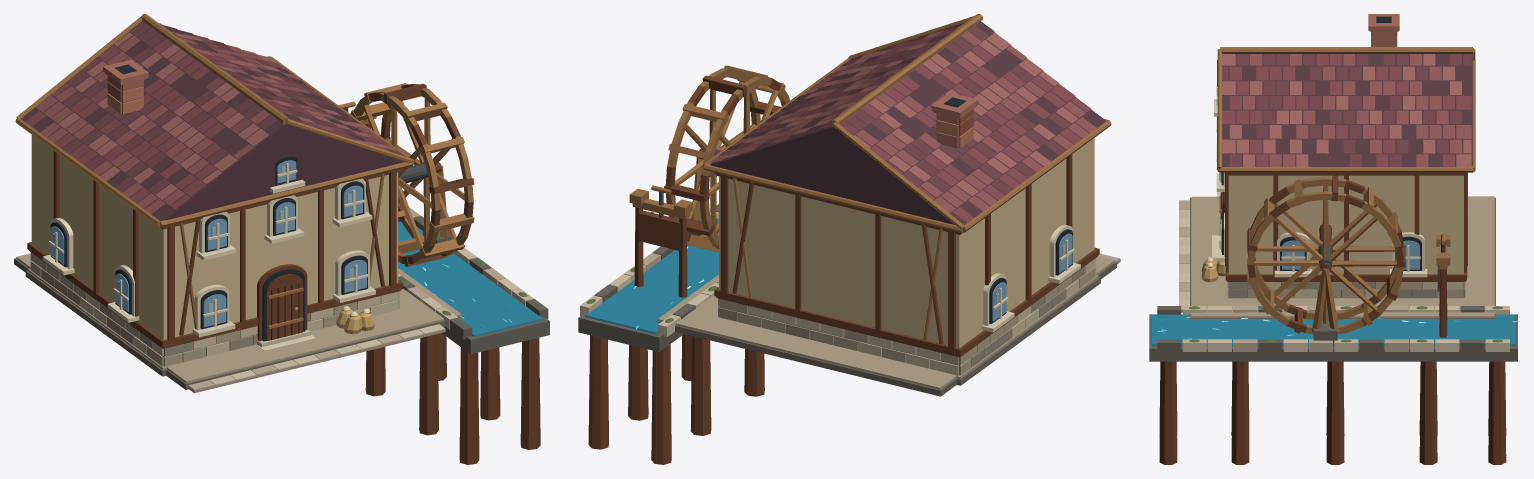
The model's file is watermill-nivel-3.glb.
The picture shows the model from 3 angles, left to right: view 1: azimuth 30°, elevation 25°; view 2: azimuth 150°, elevation 25°; view 3: azimuth 270°, elevation 25°; orthographic projection. The views are drawn at different scales.
Parts seen in each view (by area): view 1: Moinho 03 #d3bb92, Moinho 03 #70432c, Moinho 03 #593b44, Moinho 03 #b4a38a, Aros e pás 1 #9f7145.002, Moinho 03 #9f7145, Moinho 03 #824a50, Moinho 03 #8f5655, Moinho 03 #e6d7ba, Moinho 03 #70444a, Moinho 03 #9e645f, Moinho 03 #256477 (+14 smaller); view 2: Moinho 03 #d3bb92, Moinho 03 #70432c, Moinho 03 #593b44, Moinho 03 #b4a38a, Moinho 03 #9f7145, Moinho 03 #8f5655, Moinho 03 #824a50, Moinho 03 #70444a, Moinho 03 #9e645f, Aros e pás 1 #9f7145.002, Moinho 03 #256477, Moinho 03 #746c62 (+9 smaller); view 3: Moinho 03 #70432c, Moinho 03 #d3bb92, Moinho 03 #593b44, Aros e pás 1 #9f7145.002, Moinho 03 #b4a38a, Moinho 03 #256477, Moinho 03 #70444a, Moinho 03 #6a665e, Moinho 03 #9f7145, Moinho 03 #8f5655, Moinho 03 #9e645f, Moinho 03 #824a50 (+12 smaller).
Boxes of the visible parts, x1,y1,x2,y2 form: Moinho 03 #d3bb92: (31, 135, 398, 339); Moinho 03 #70432c: (27, 123, 540, 464); Moinho 03 #593b44: (21, 25, 404, 221); Moinho 03 #b4a38a: (16, 252, 461, 383); Aros e pás 1 #9f7145.002: (350, 83, 474, 263); Moinho 03 #9f7145: (15, 14, 448, 329); Moinho 03 #824a50: (25, 35, 389, 209); Moinho 03 #8f5655: (35, 36, 381, 213); Moinho 03 #e6d7ba: (42, 163, 375, 350); Moinho 03 #70444a: (62, 21, 403, 194); Moinho 03 #9e645f: (58, 32, 396, 199); Moinho 03 #256477: (398, 221, 543, 336); Moinho 03 #d3bb92: (719, 138, 1094, 348); Moinho 03 #70432c: (588, 149, 1099, 464); Moinho 03 #593b44: (710, 21, 1106, 224); Moinho 03 #b4a38a: (658, 256, 1114, 389); Moinho 03 #9f7145: (629, 14, 1111, 340); Moinho 03 #8f5655: (728, 31, 1096, 212); Moinho 03 #824a50: (717, 29, 1091, 222); Moinho 03 #70444a: (735, 25, 1070, 194); Moinho 03 #9e645f: (707, 23, 1078, 195); Aros e pás 1 #9f7145.002: (666, 65, 789, 252); Moinho 03 #256477: (585, 218, 718, 334); Moinho 03 #746c62: (655, 261, 1116, 396); Moinho 03 #70432c: (1159, 172, 1506, 464); Moinho 03 #d3bb92: (1228, 175, 1463, 274); Moinho 03 #593b44: (1222, 54, 1472, 166); Aros e pás 1 #9f7145.002: (1247, 177, 1403, 336); Moinho 03 #b4a38a: (1191, 196, 1494, 317); Moinho 03 #256477: (1152, 314, 1515, 345); Moinho 03 #70444a: (1222, 54, 1471, 166); Moinho 03 #6a665e: (1149, 306, 1517, 361); Moinho 03 #9f7145: (1217, 47, 1475, 332); Moinho 03 #8f5655: (1243, 54, 1471, 166); Moinho 03 #9e645f: (1222, 54, 1471, 166); Moinho 03 #824a50: (1222, 54, 1471, 166).
Size of the model in its own units: 9.71 by 9.38 by 9.82.
